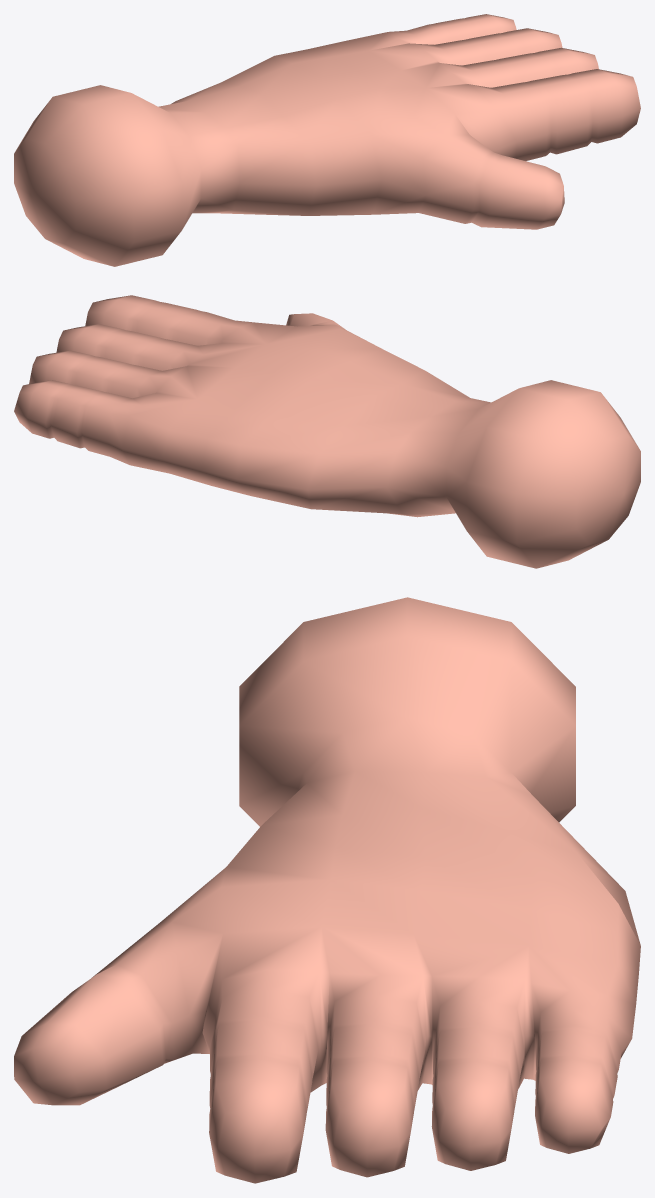
File: baby_hand.fbx
The picture shows the model from 3 angles, top to bottom: view 1: azimuth 30°, elevation 25°; view 2: azimuth 150°, elevation 25°; view 3: azimuth 270°, elevation 25°; orthographic projection. The views are drawn at different scales.
Visible parts, largest first — view 1: Sphere_1; view 2: Sphere_1; view 3: Sphere_1.
Boxes of the visible parts, box(x1,y1,x2,y2) form: Sphere_1: box(14, 14, 640, 266); Sphere_1: box(14, 295, 640, 568); Sphere_1: box(14, 597, 640, 1183).
Size of the model in its own units: 145 by 38 by 83.45.
